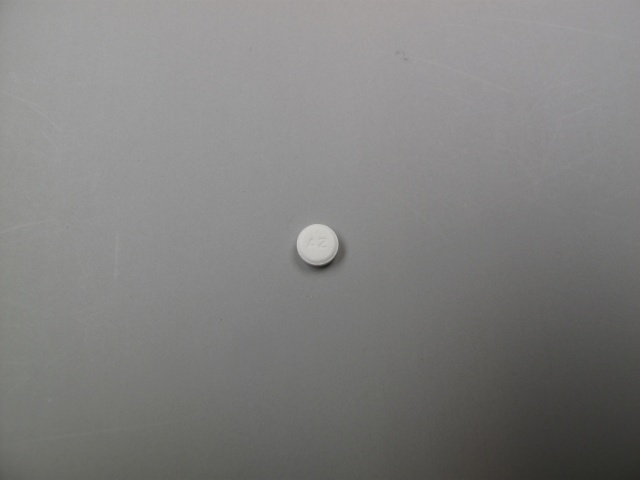A: (305, 236, 318, 250)
Z: (317, 236, 329, 251)
